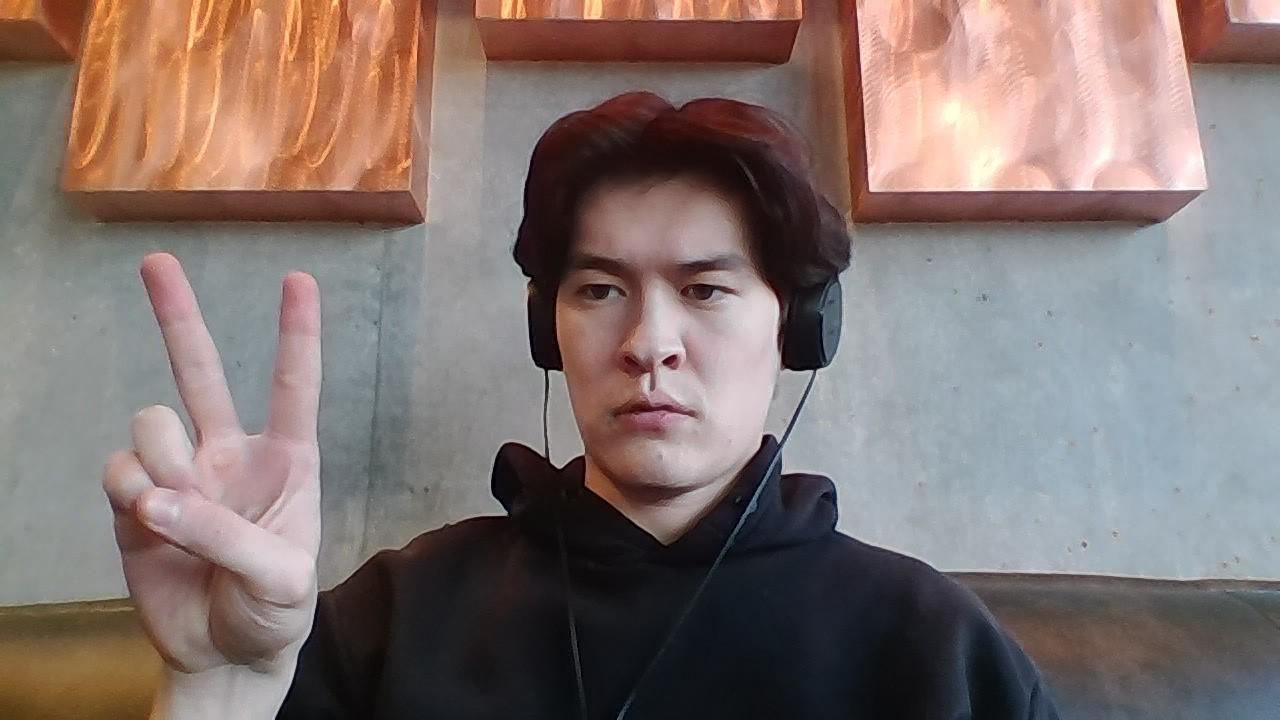peace: (98, 250, 327, 675)
